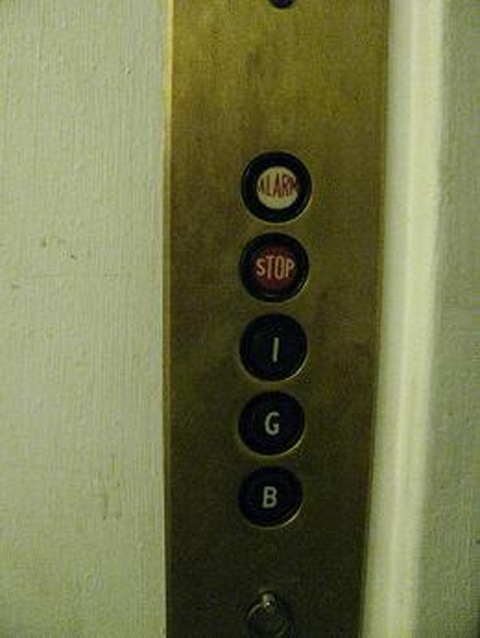1: (238, 309, 310, 383)
B: (236, 465, 305, 530)
G: (235, 389, 309, 458)
text_alarm: (238, 148, 315, 223)
text_stop: (238, 230, 313, 304)
